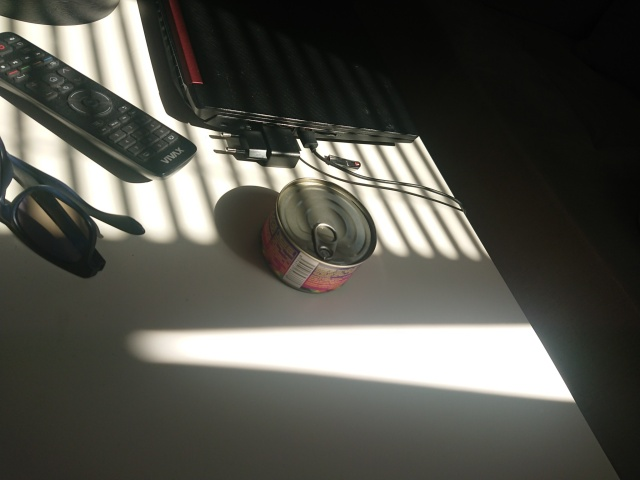Giana Tuna Salad Mexico 185g: (256, 176, 380, 297)
